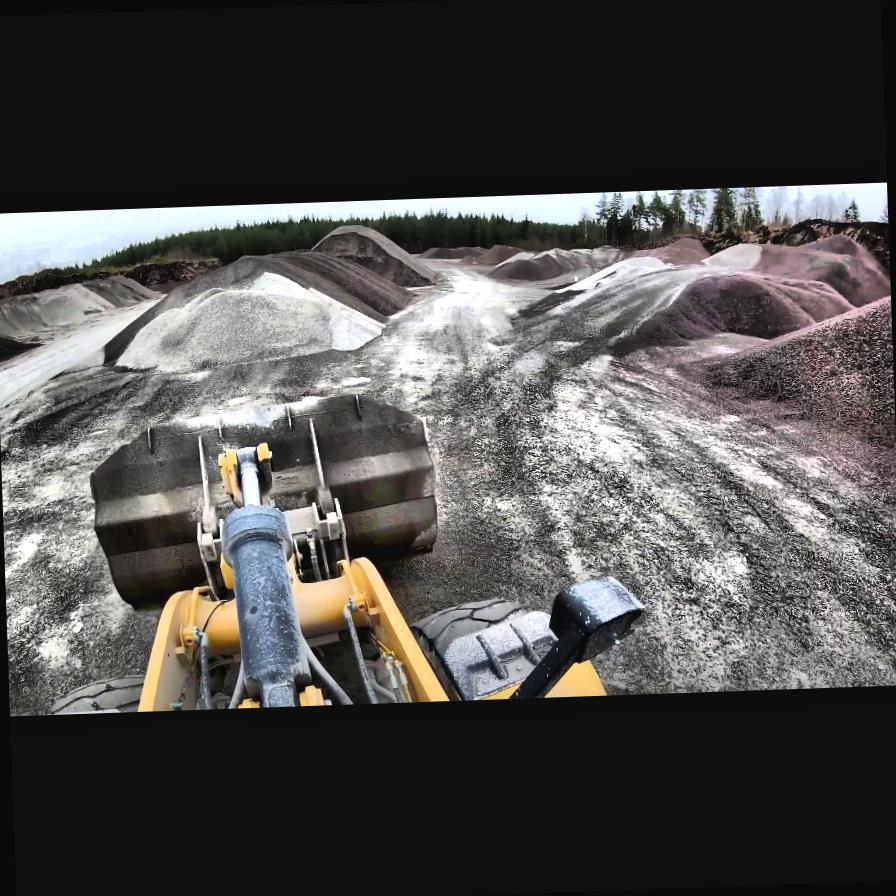anchor: (216, 440, 274, 506)
pile of gravel: (45, 226, 420, 375), (562, 222, 892, 362), (678, 278, 896, 455), (475, 233, 704, 288), (310, 220, 443, 294), (0, 316, 46, 409)
